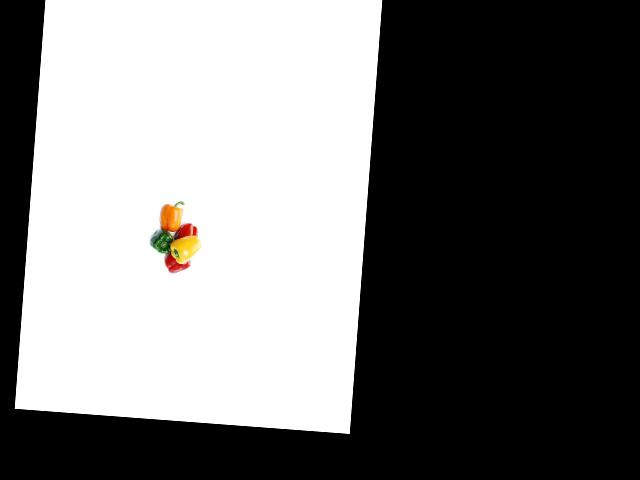bell_pepper: (145, 227, 181, 260)
